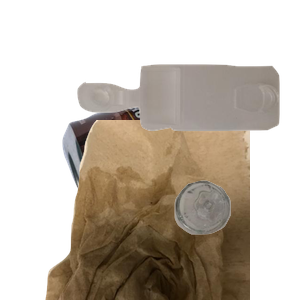glass: (172, 178, 300, 300)
metal: (60, 79, 300, 259)
plastic: (75, 62, 300, 186)
trash: (43, 120, 283, 300)
